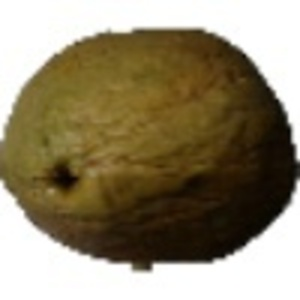mamão: (9, 14, 296, 267)
